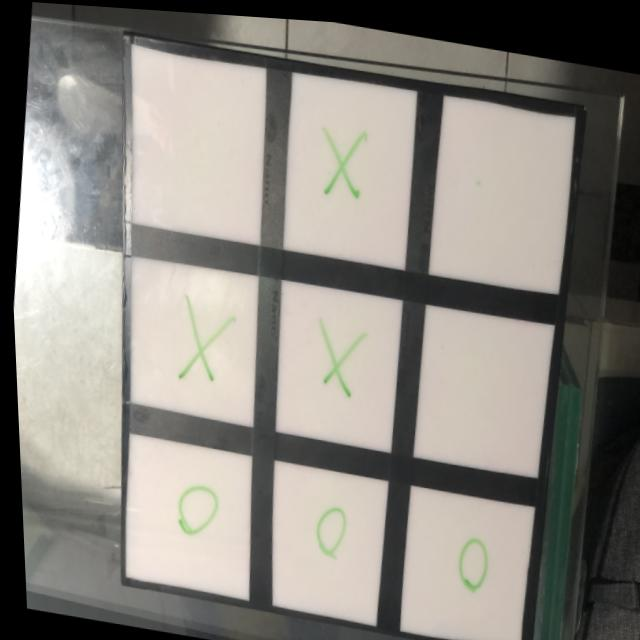null: (425, 90, 574, 287), (121, 43, 266, 243), (404, 300, 552, 472)
o: (163, 471, 219, 542), (443, 518, 490, 592), (299, 491, 350, 559)
table: (60, 27, 587, 640)
x: (166, 294, 233, 385), (310, 115, 372, 207), (308, 311, 366, 395)
